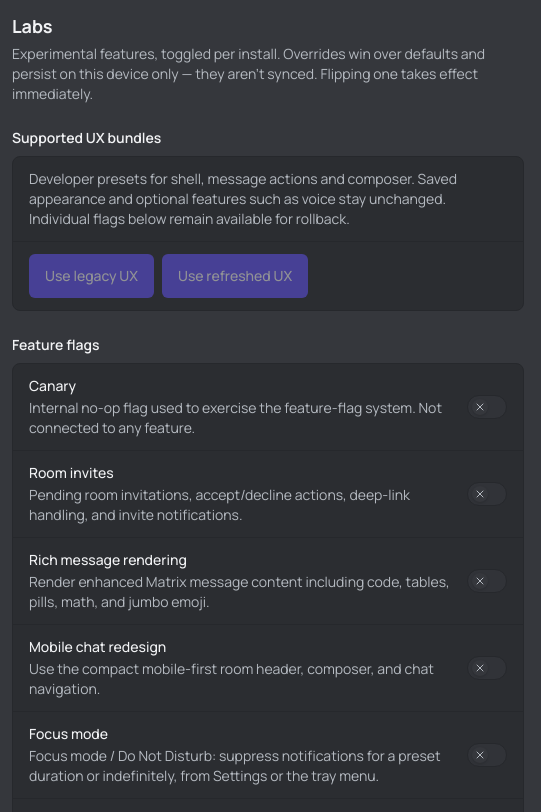
LabsPanel › toggling a flag sets an override and reveals a reset affordance
Click the switch named "Toggle Canary" at (487, 407), box x1=467 y1=395 x2=507 y2=419
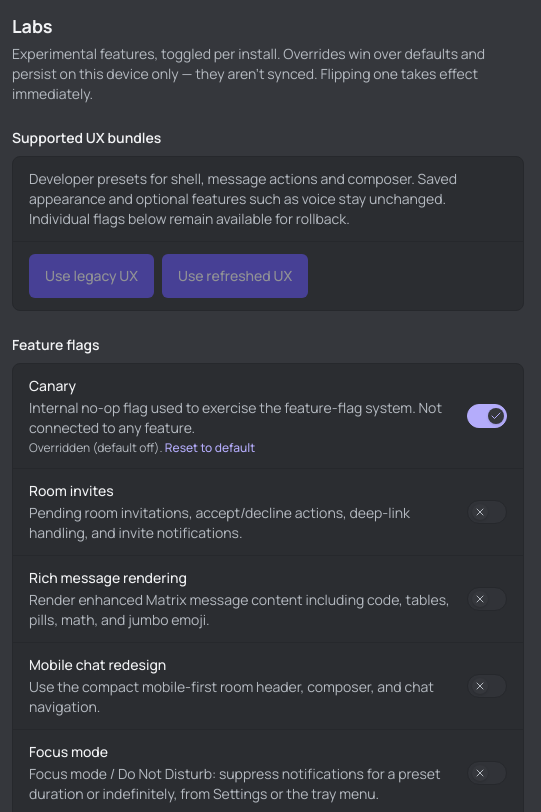
Check: the switch named "Toggle Canary" is checked, box x1=467 y1=404 x2=507 y2=428
Check: the text "Overridden (default off). Reset to default" is shown, box x1=29 y1=439 x2=255 y2=456
